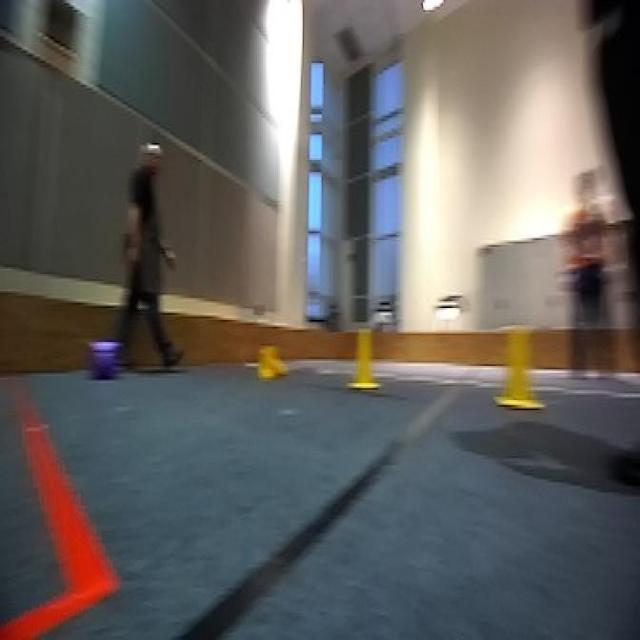frc_cone: (492, 323, 548, 412), (347, 327, 382, 390), (258, 346, 288, 381)
frc_cube: (92, 336, 121, 382)
